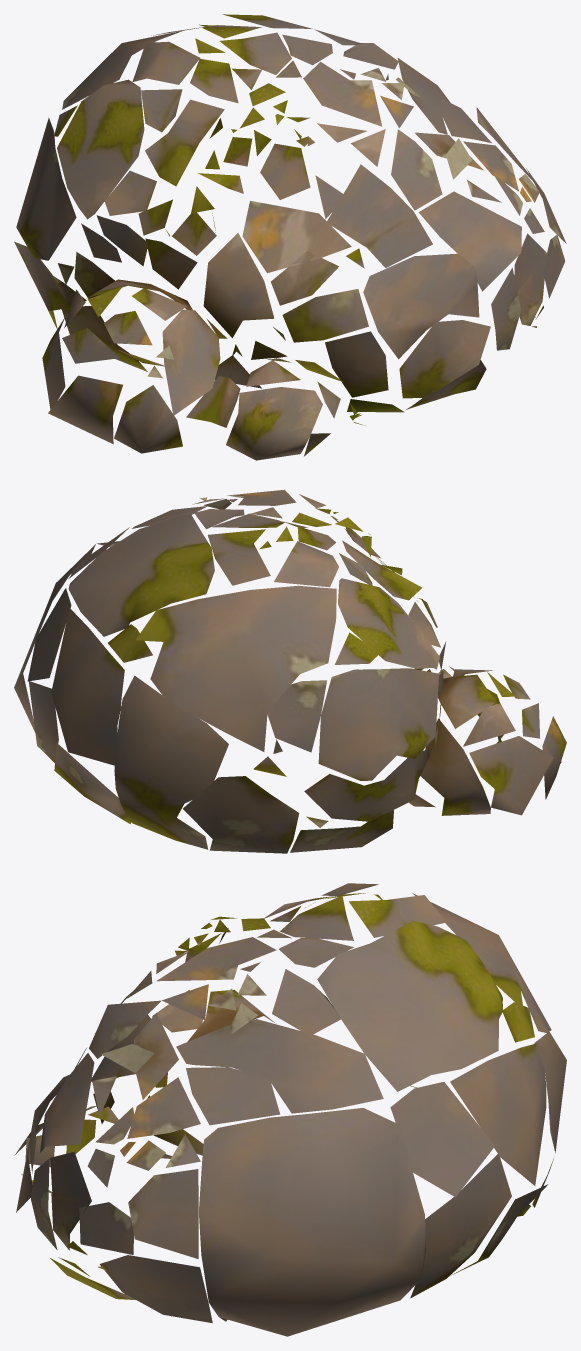
File: rock.glb
3 renders of one model, top to bottom at view 1: azimuth 30°, elevation 25°; view 2: azimuth 150°, elevation 25°; view 3: azimuth 270°, elevation 25°, orthographic. The views are drawn at different scales.
Visible parts, largest first — view 1: tripo_node_0fa4ddd1-2a02-4ae6-8fae-dae21c1123ab; view 2: tripo_node_0fa4ddd1-2a02-4ae6-8fae-dae21c1123ab; view 3: tripo_node_0fa4ddd1-2a02-4ae6-8fae-dae21c1123ab.
Boxes of the visible parts, <box> form: tripo_node_0fa4ddd1-2a02-4ae6-8fae-dae21c1123ab: <box>14,14,566,460</box>; tripo_node_0fa4ddd1-2a02-4ae6-8fae-dae21c1123ab: <box>14,489,566,853</box>; tripo_node_0fa4ddd1-2a02-4ae6-8fae-dae21c1123ab: <box>14,883,566,1336</box>.
Bounding box in the file's own units: 1.07 × 0.5908 × 0.9241.
1 material, 1 textured.
